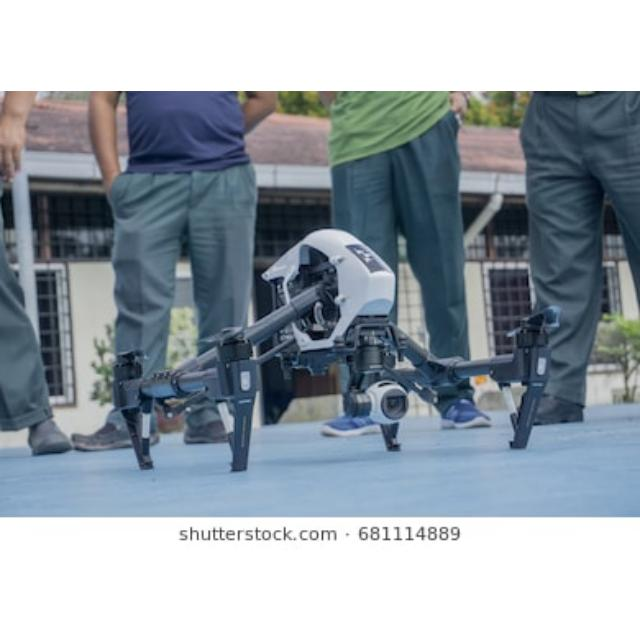Drones: (132, 237, 580, 473)
